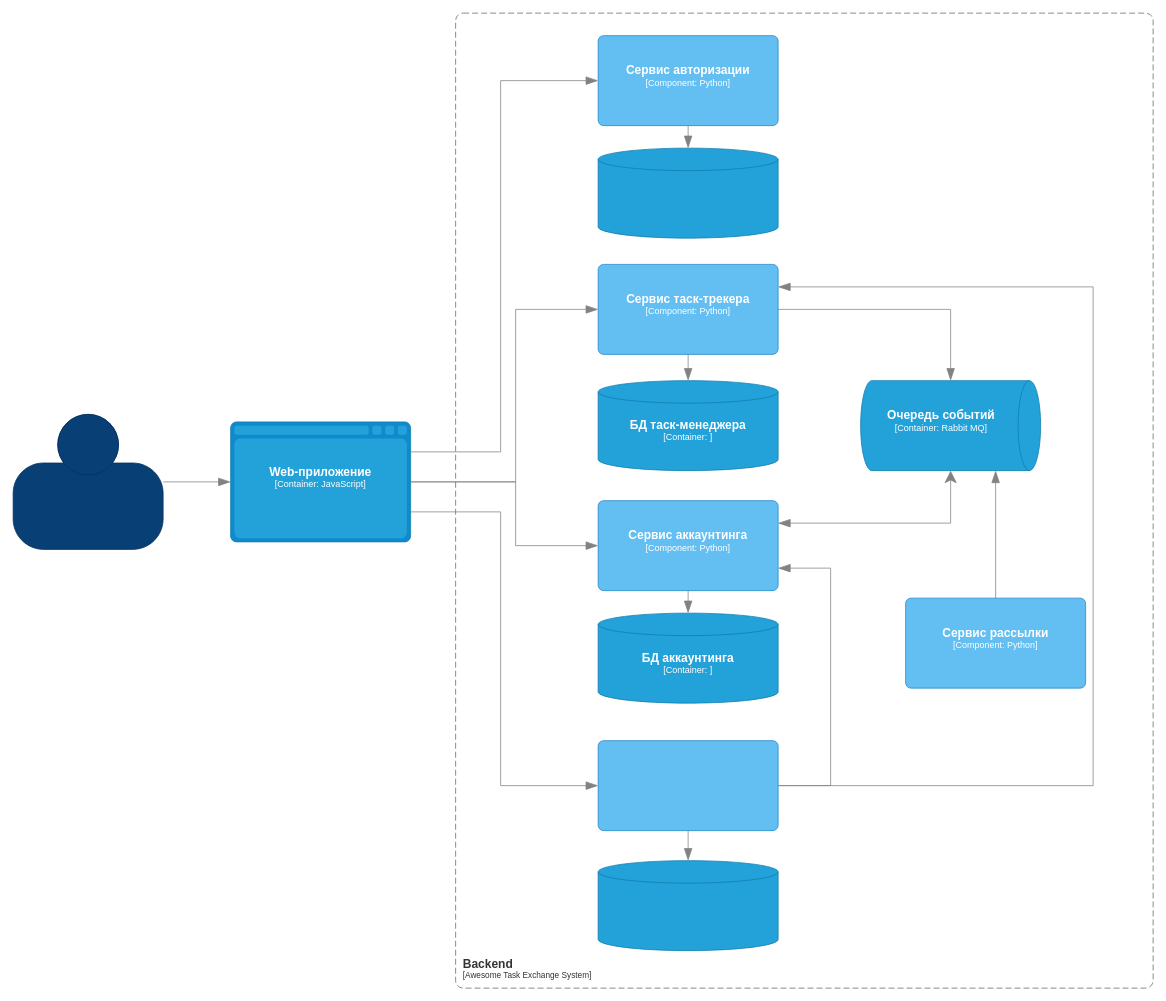
The diagram is 1166 pixels wide and 1001 high, and some of its shapes have lost their labels. Here are the shapes that lost their labels. From the top down, the centre of each, then its label:
At point 687,192: "БД пользователей [Container: ]".
At point 87,481: "Пользователь [Person]".
At point 687,785: "Сервис аналитики [Component: Python]".
At point 687,905: "Аналитическая БД [Container: ]".
